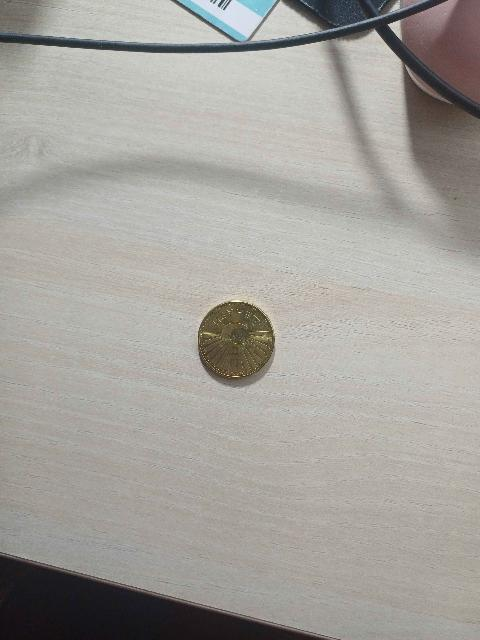5_coin: (200, 305, 271, 376)
